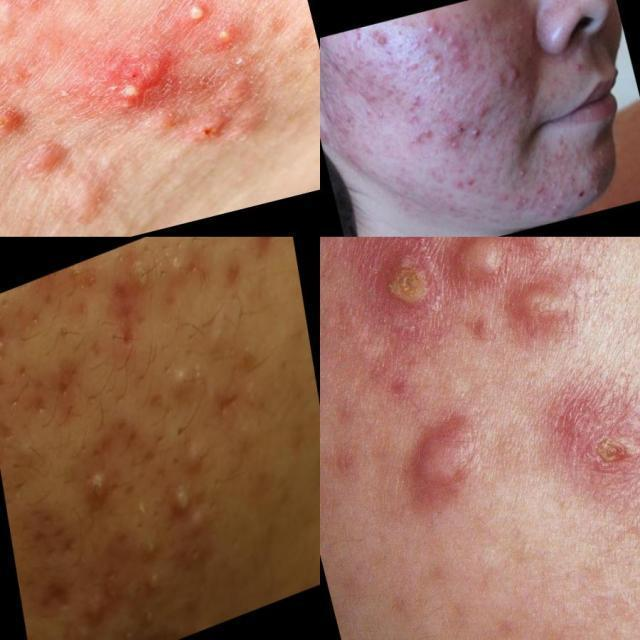cyst: (383, 413, 485, 508), (567, 409, 634, 526), (100, 51, 192, 125), (453, 228, 549, 289), (358, 253, 432, 324), (491, 292, 607, 337), (210, 95, 264, 133), (202, 17, 247, 59), (87, 175, 121, 228), (29, 135, 69, 175), (123, 255, 159, 294), (160, 488, 208, 517), (167, 361, 203, 386), (2, 103, 31, 134), (424, 12, 444, 52), (76, 469, 120, 487), (175, 0, 201, 25), (139, 571, 158, 605), (511, 62, 530, 90), (469, 123, 488, 146)
